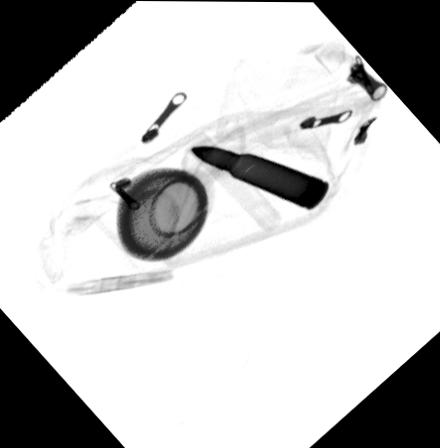Bullet: (186, 143, 331, 211)
